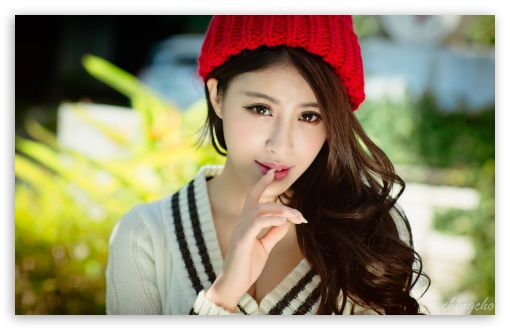bare: (224, 129, 319, 194)
